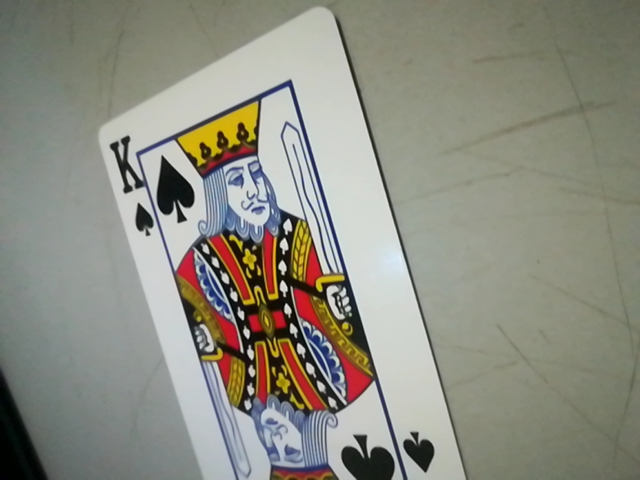ht k: (100, 125, 156, 241)
